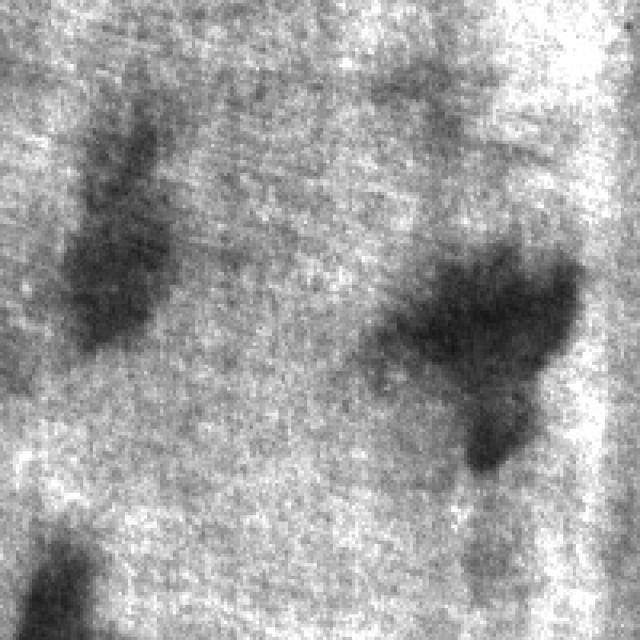patches: (384, 237, 595, 467), (70, 109, 186, 342), (22, 518, 122, 637)
